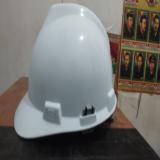Helmet: (14, 3, 117, 139)
